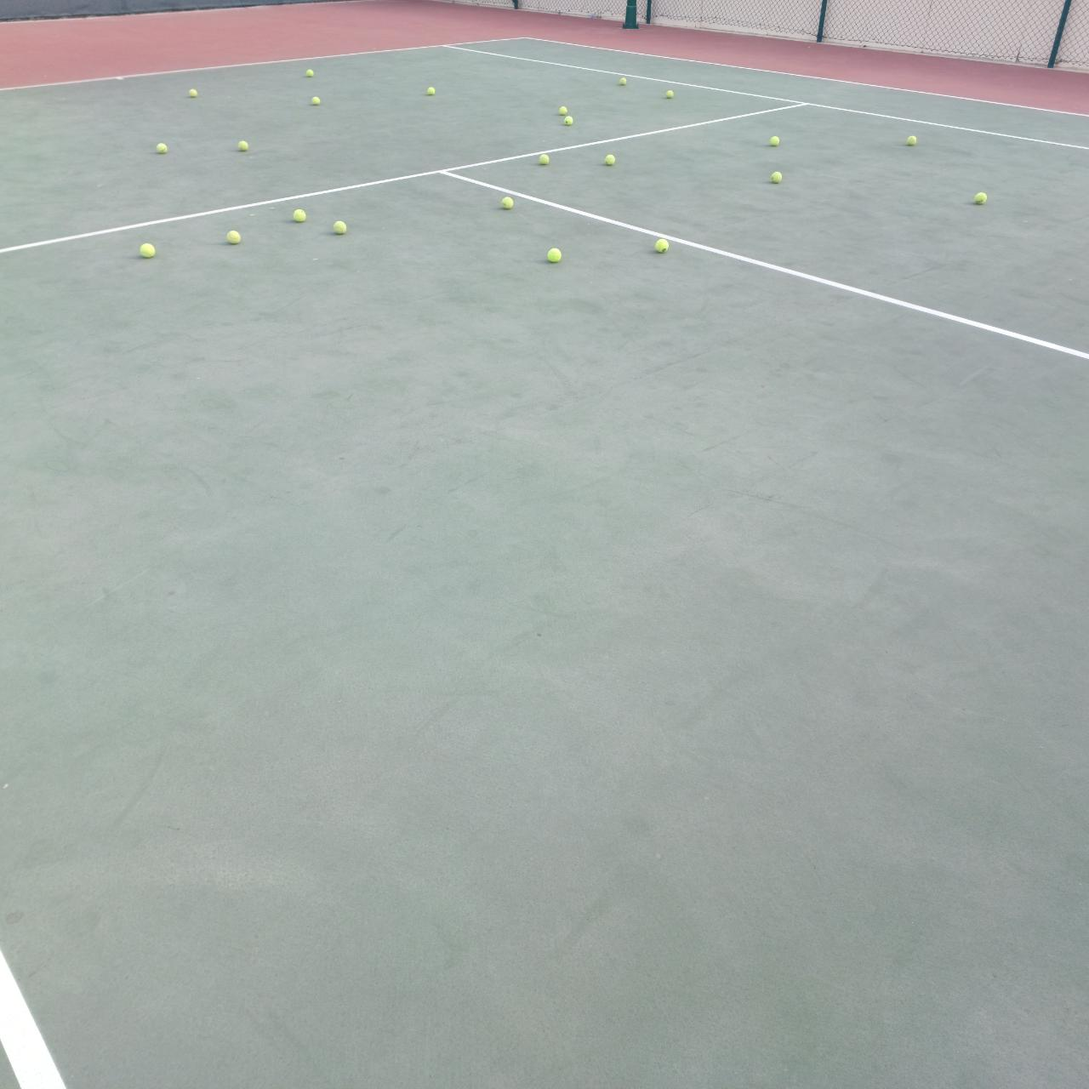tennis-ball: (138, 240, 156, 258), (225, 227, 241, 244), (654, 238, 670, 254), (546, 247, 562, 263), (331, 218, 346, 234), (291, 207, 306, 222), (500, 195, 514, 210), (972, 190, 987, 204), (769, 169, 782, 183), (904, 134, 918, 146), (604, 154, 616, 166), (768, 135, 779, 147), (238, 140, 249, 152), (539, 154, 550, 166), (156, 143, 167, 154), (564, 115, 574, 125), (558, 105, 567, 116), (189, 89, 198, 98), (312, 96, 320, 105), (427, 87, 435, 96), (666, 90, 674, 98), (620, 77, 627, 86), (306, 70, 314, 77)
